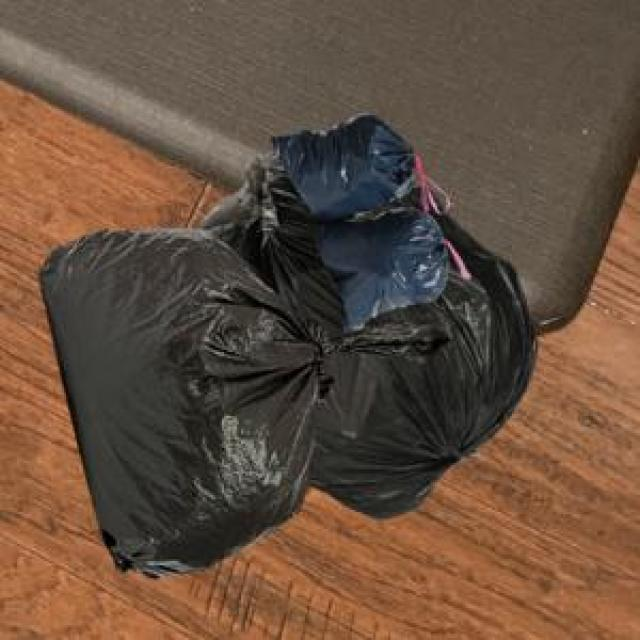waste: (41, 115, 535, 574)
